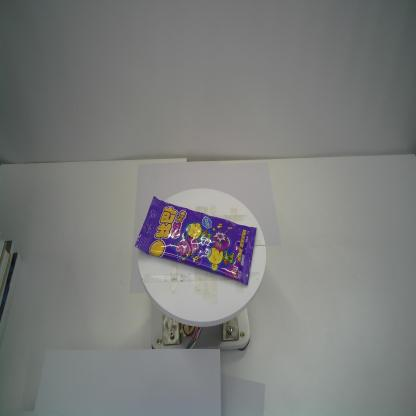Candy: (134, 194, 257, 289)
